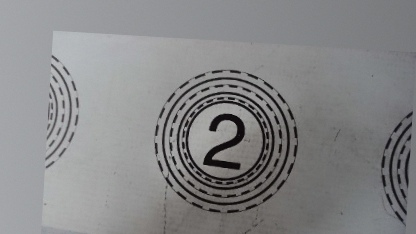2r: (148, 63, 303, 219)
